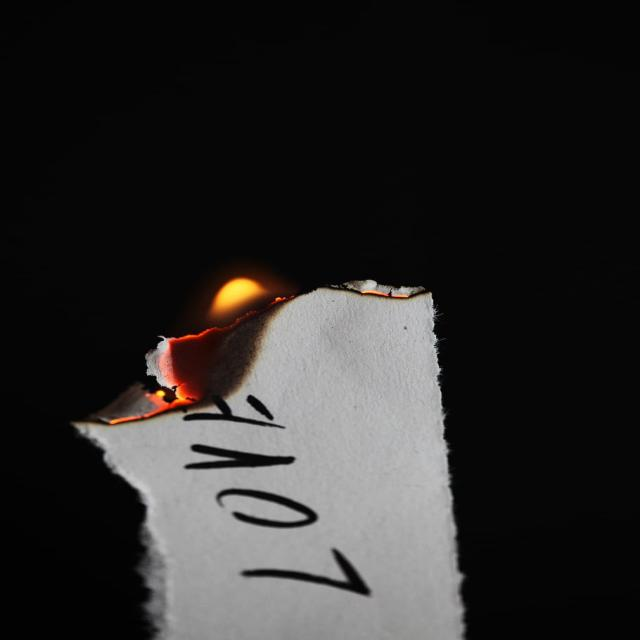fire: (109, 277, 293, 424)
